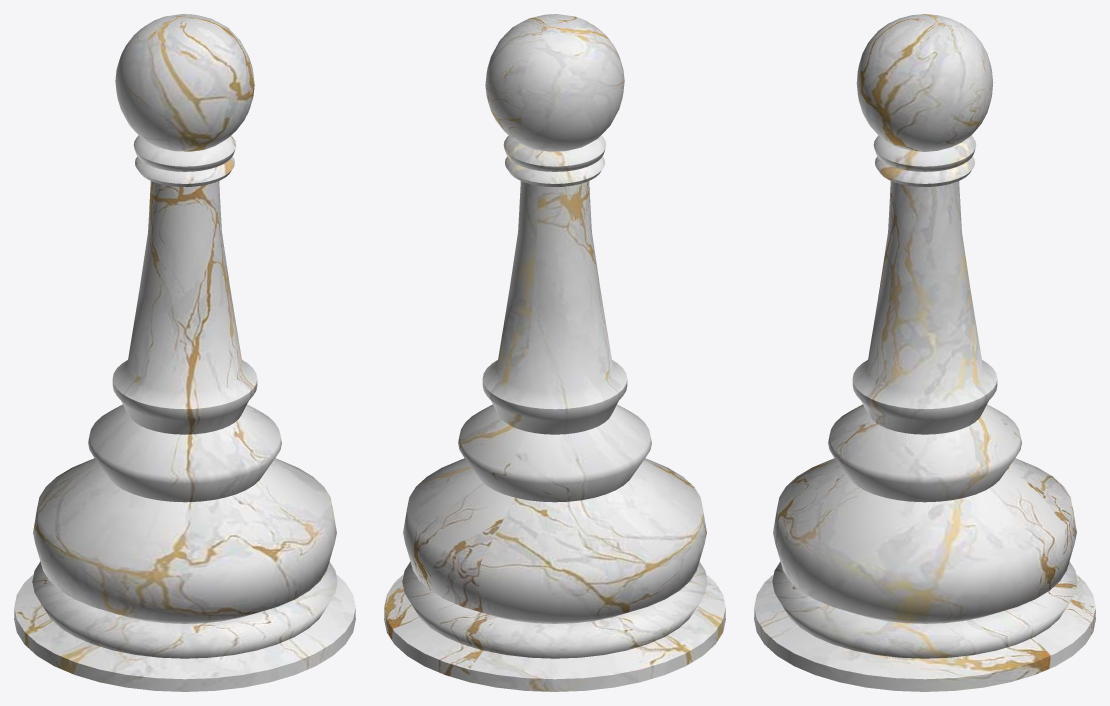
The model's file is chess_3.fbx.
3 views of the same model, side by side, from view 1: azimuth 30°, elevation 25°; view 2: azimuth 150°, elevation 25°; view 3: azimuth 270°, elevation 25° (orthographic).
Visible parts, largest first — view 1: Cylinder003; view 2: Cylinder003; view 3: Cylinder003.
Boxes of the visible parts, x1,y1,x2,y2 form: Cylinder003: (14,14,355,691); Cylinder003: (384,14,725,691); Cylinder003: (754,14,1095,691).
Bounding box in the file's own units: 1.49 × 2.88 × 1.49.
